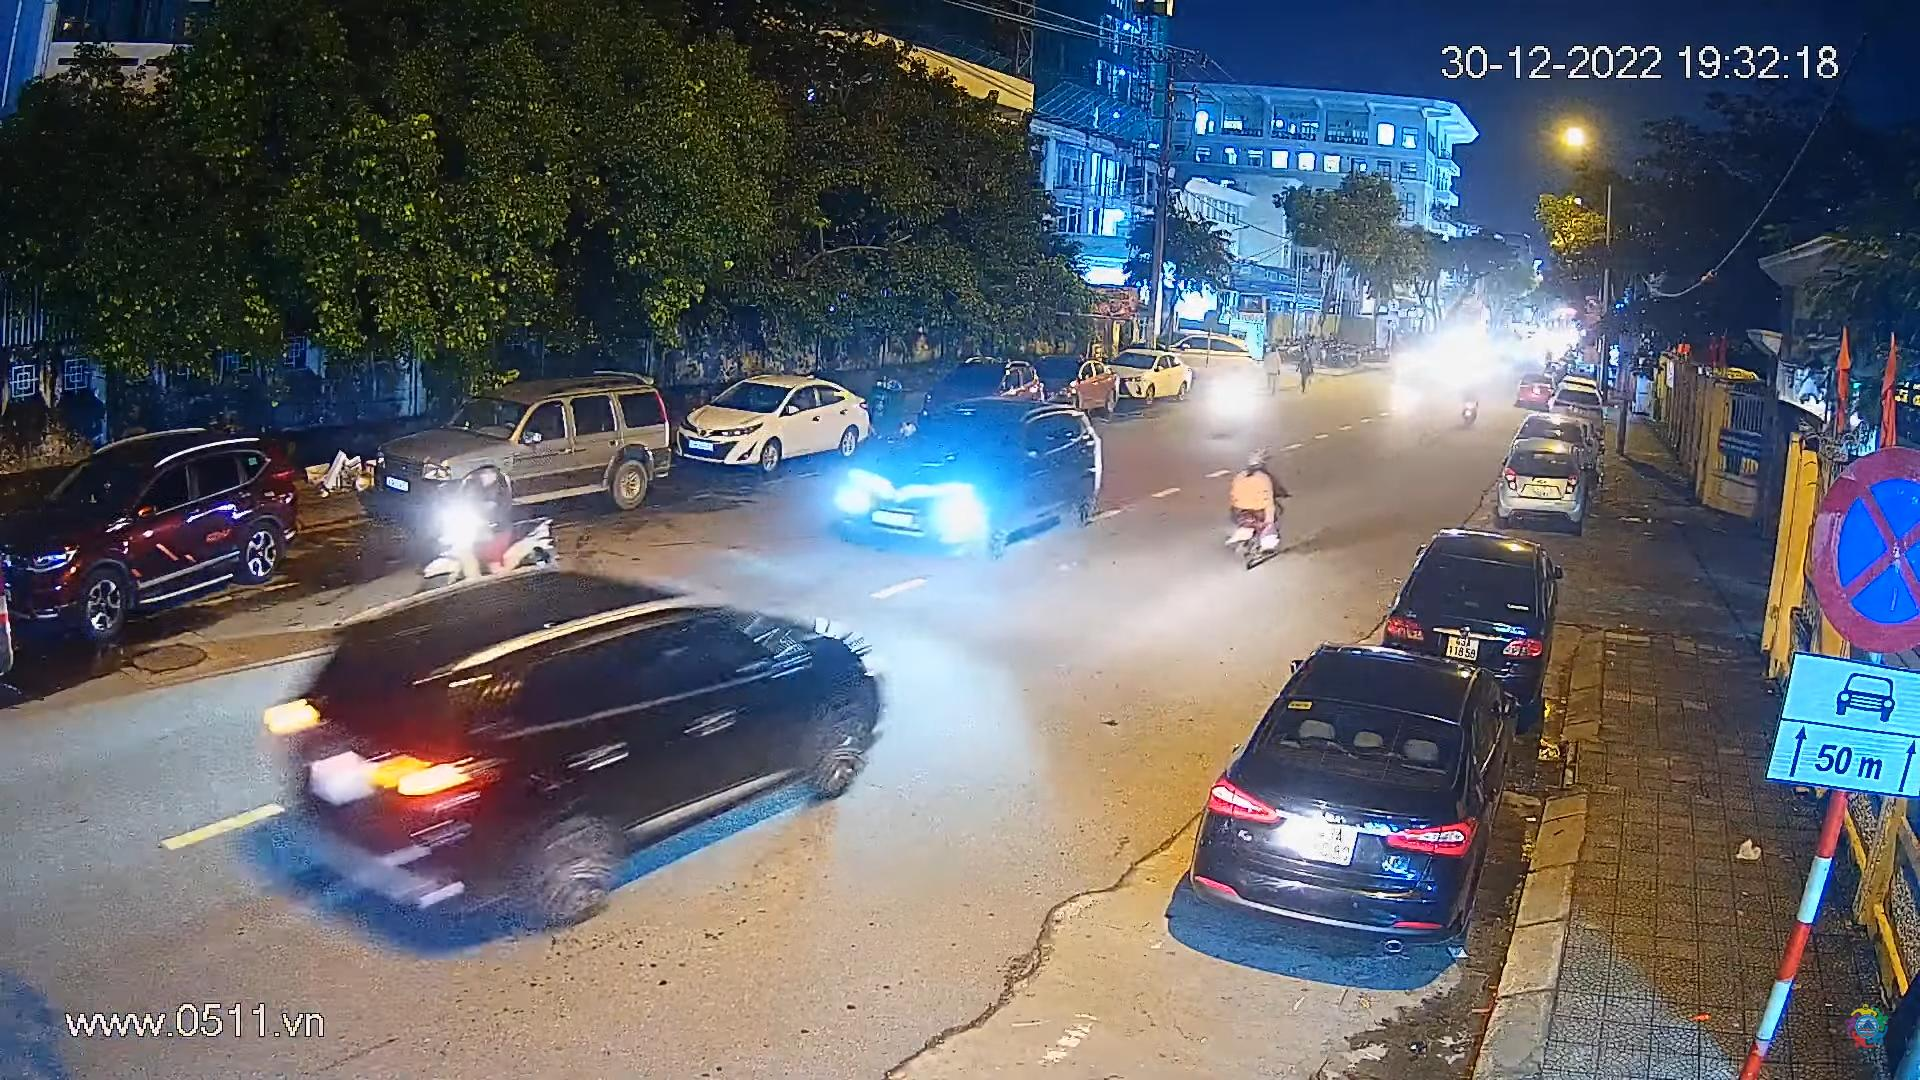car: (269, 556, 894, 940), (1189, 641, 1515, 964), (0, 429, 293, 641), (832, 392, 1118, 562), (368, 378, 673, 530), (1383, 530, 1571, 720), (678, 371, 868, 472), (1495, 433, 1596, 533), (935, 353, 1046, 425), (1097, 338, 1191, 410), (1035, 353, 1121, 417), (1544, 385, 1605, 438), (1515, 371, 1557, 410)
motorcycle: (1211, 448, 1304, 564)
